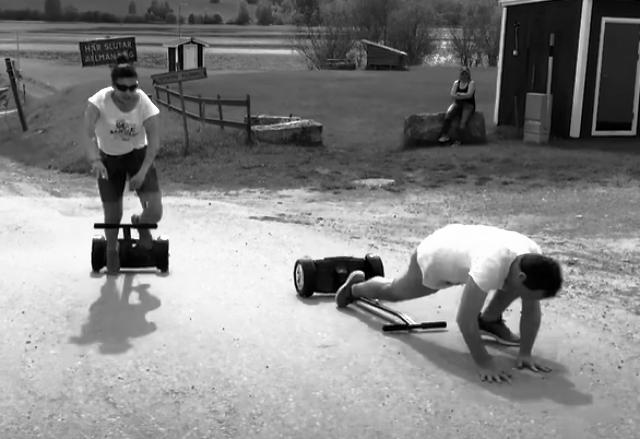jatuh: (330, 216, 568, 395), (72, 57, 178, 287)
